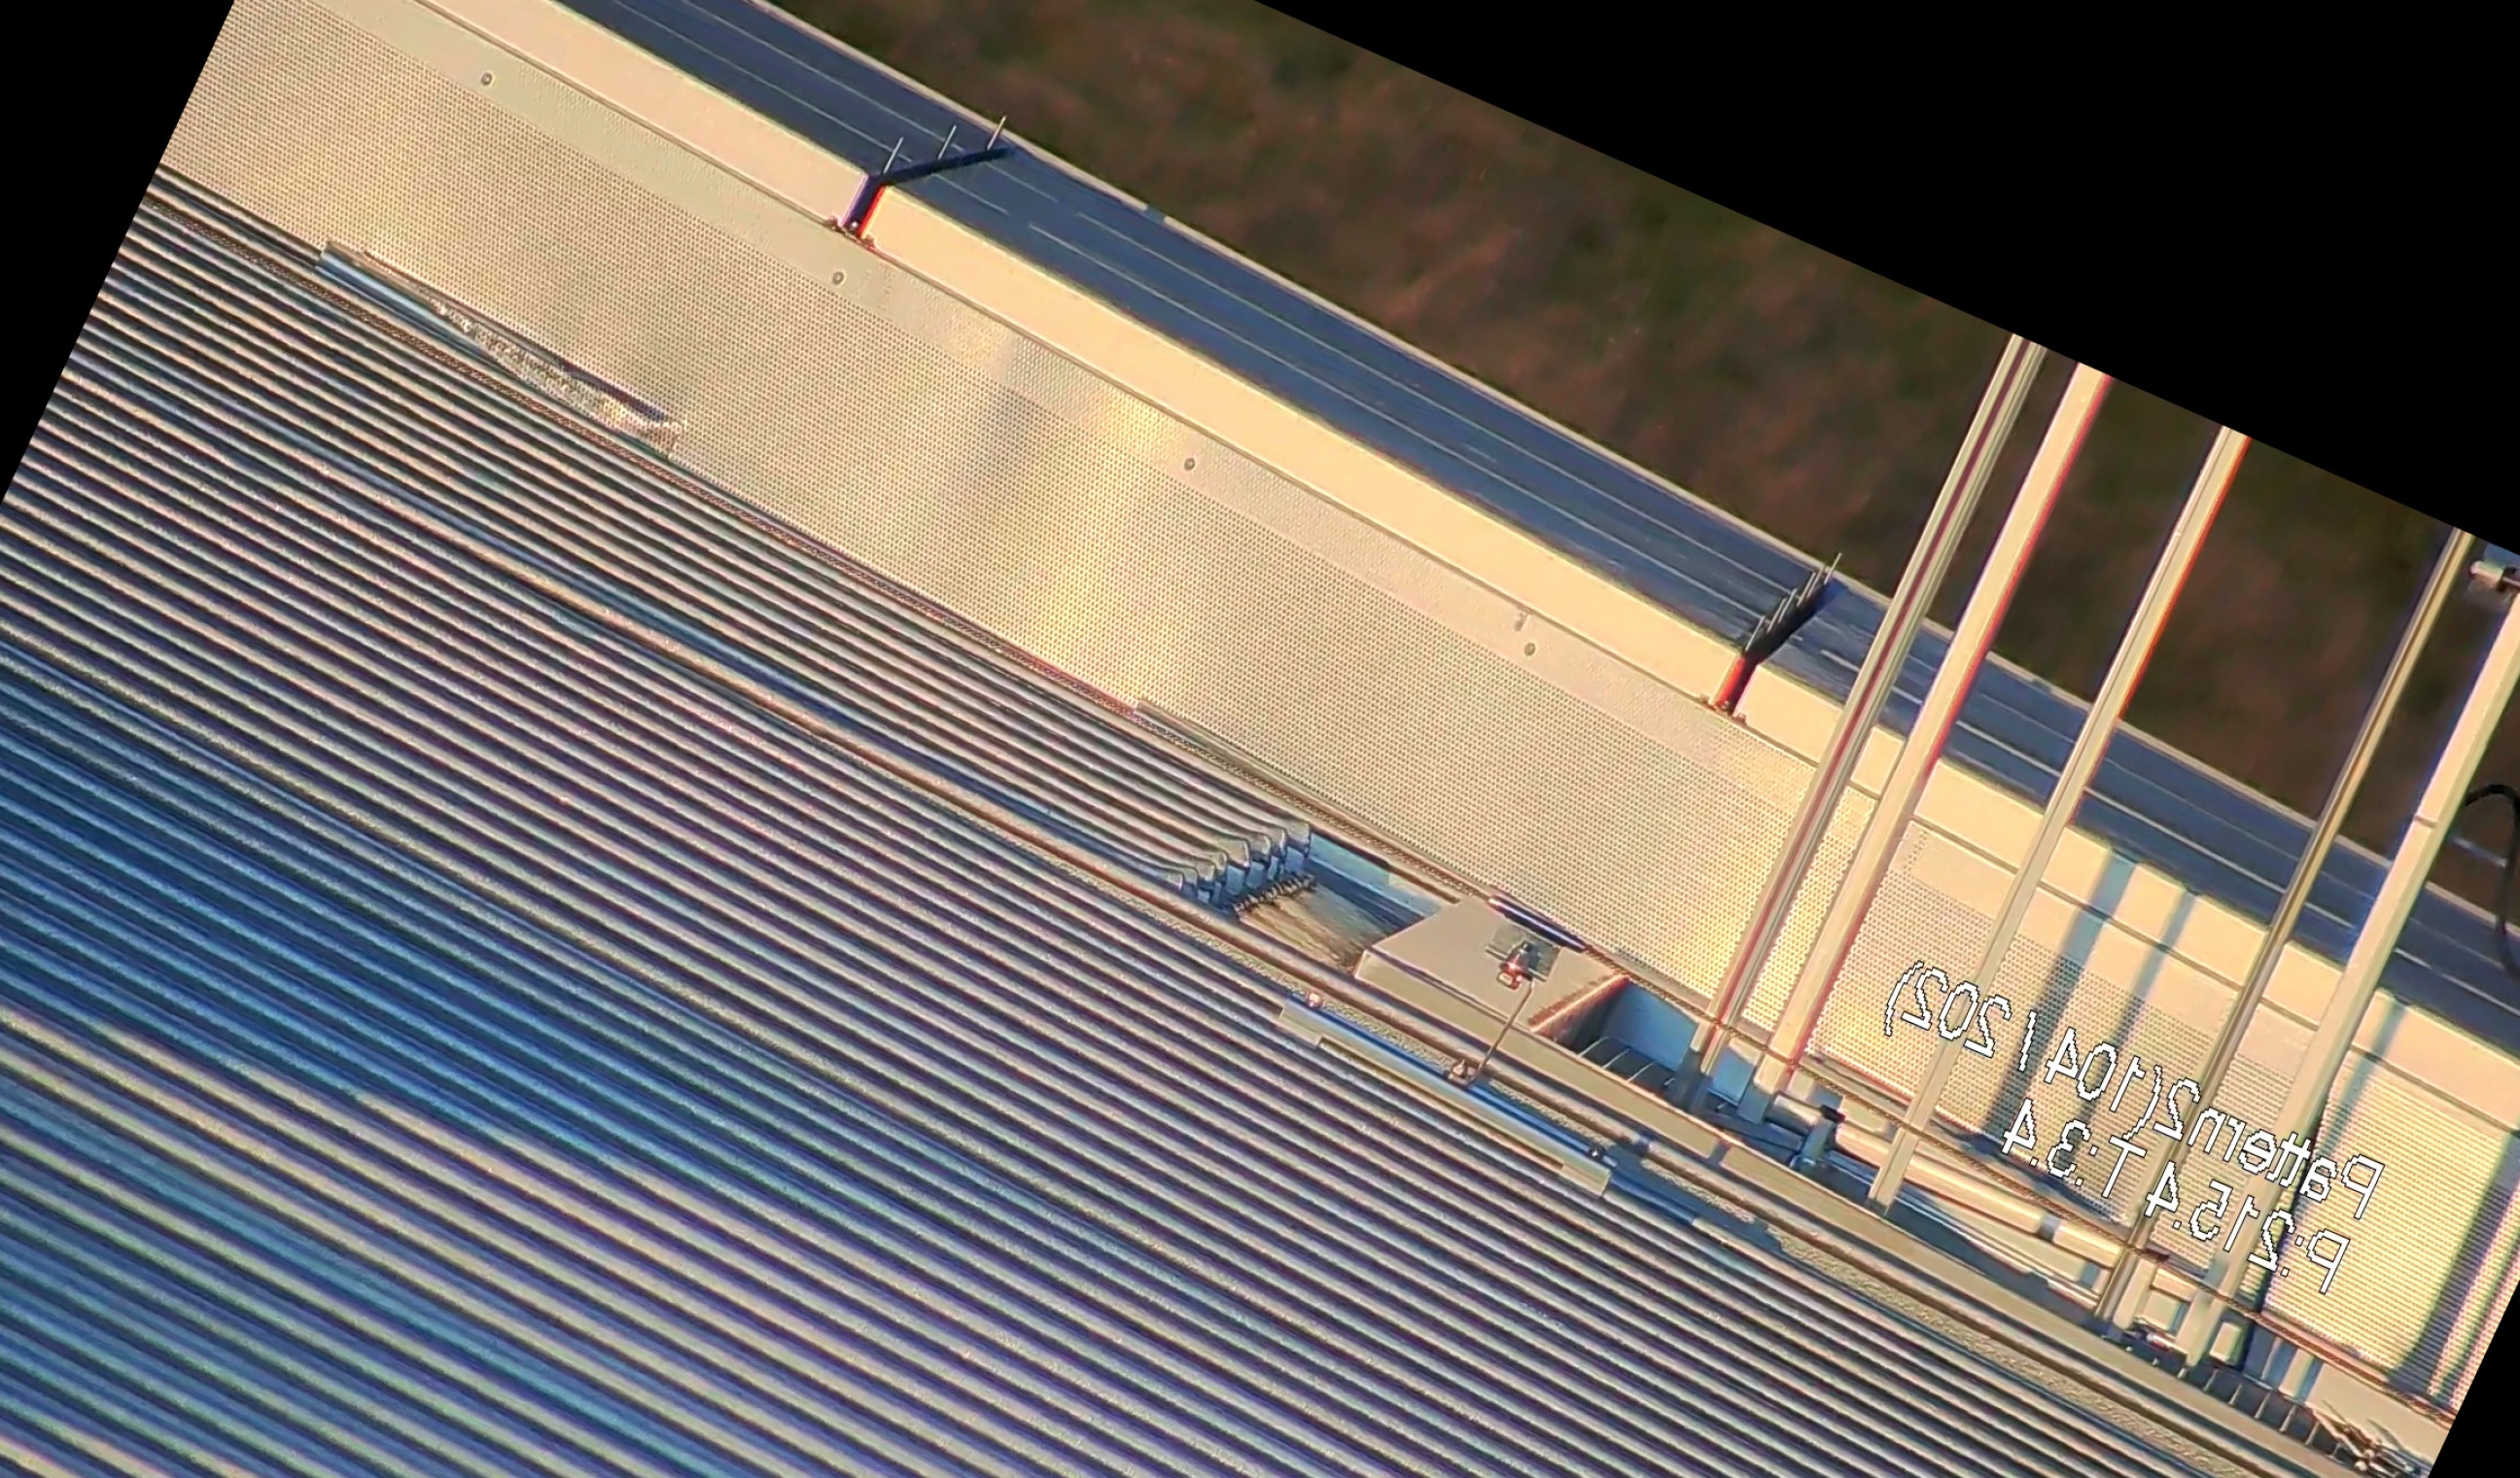Other: (1693, 530, 1864, 750)
